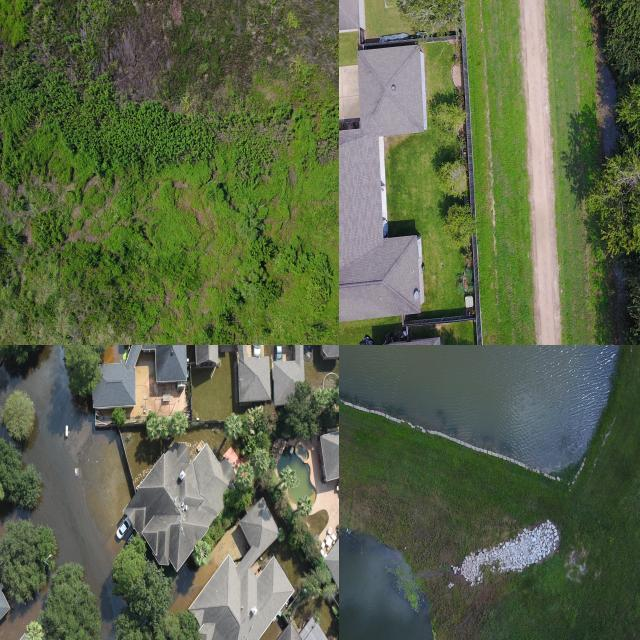fire: (0, 345, 132, 640), (339, 345, 620, 472)
